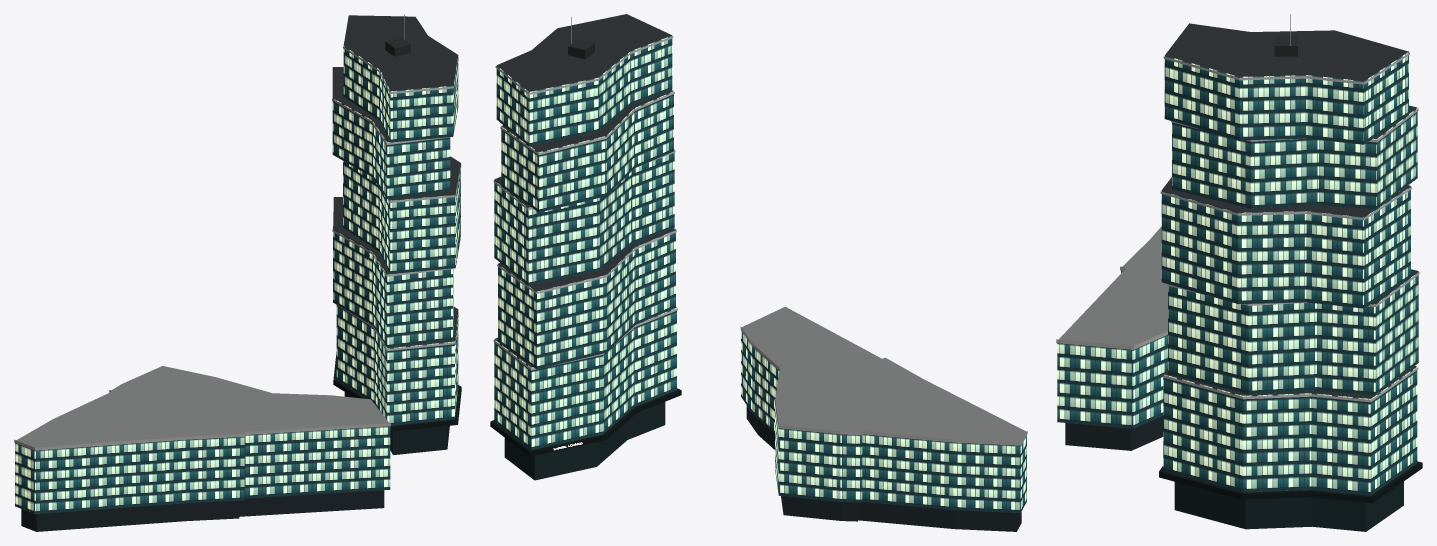
The model's file is prime_tower.glb.
3 views of the same model, side by side, from view 1: azimuth 30°, elevation 25°; view 2: azimuth 150°, elevation 25°; view 3: azimuth 270°, elevation 25° (orthographic). The views are drawn at different scales.
Parts seen in each view (by area): view 1: prime; view 2: prime; view 3: prime.
Part boxes in pixels (<box>): prime: <box>14,14,461,531</box>; prime: <box>490,14,1027,531</box>; prime: <box>1056,14,1422,531</box>.
Size of the model in its own units: 166 by 141 by 93.93.
Materials: 3 (3 with a texture image).
